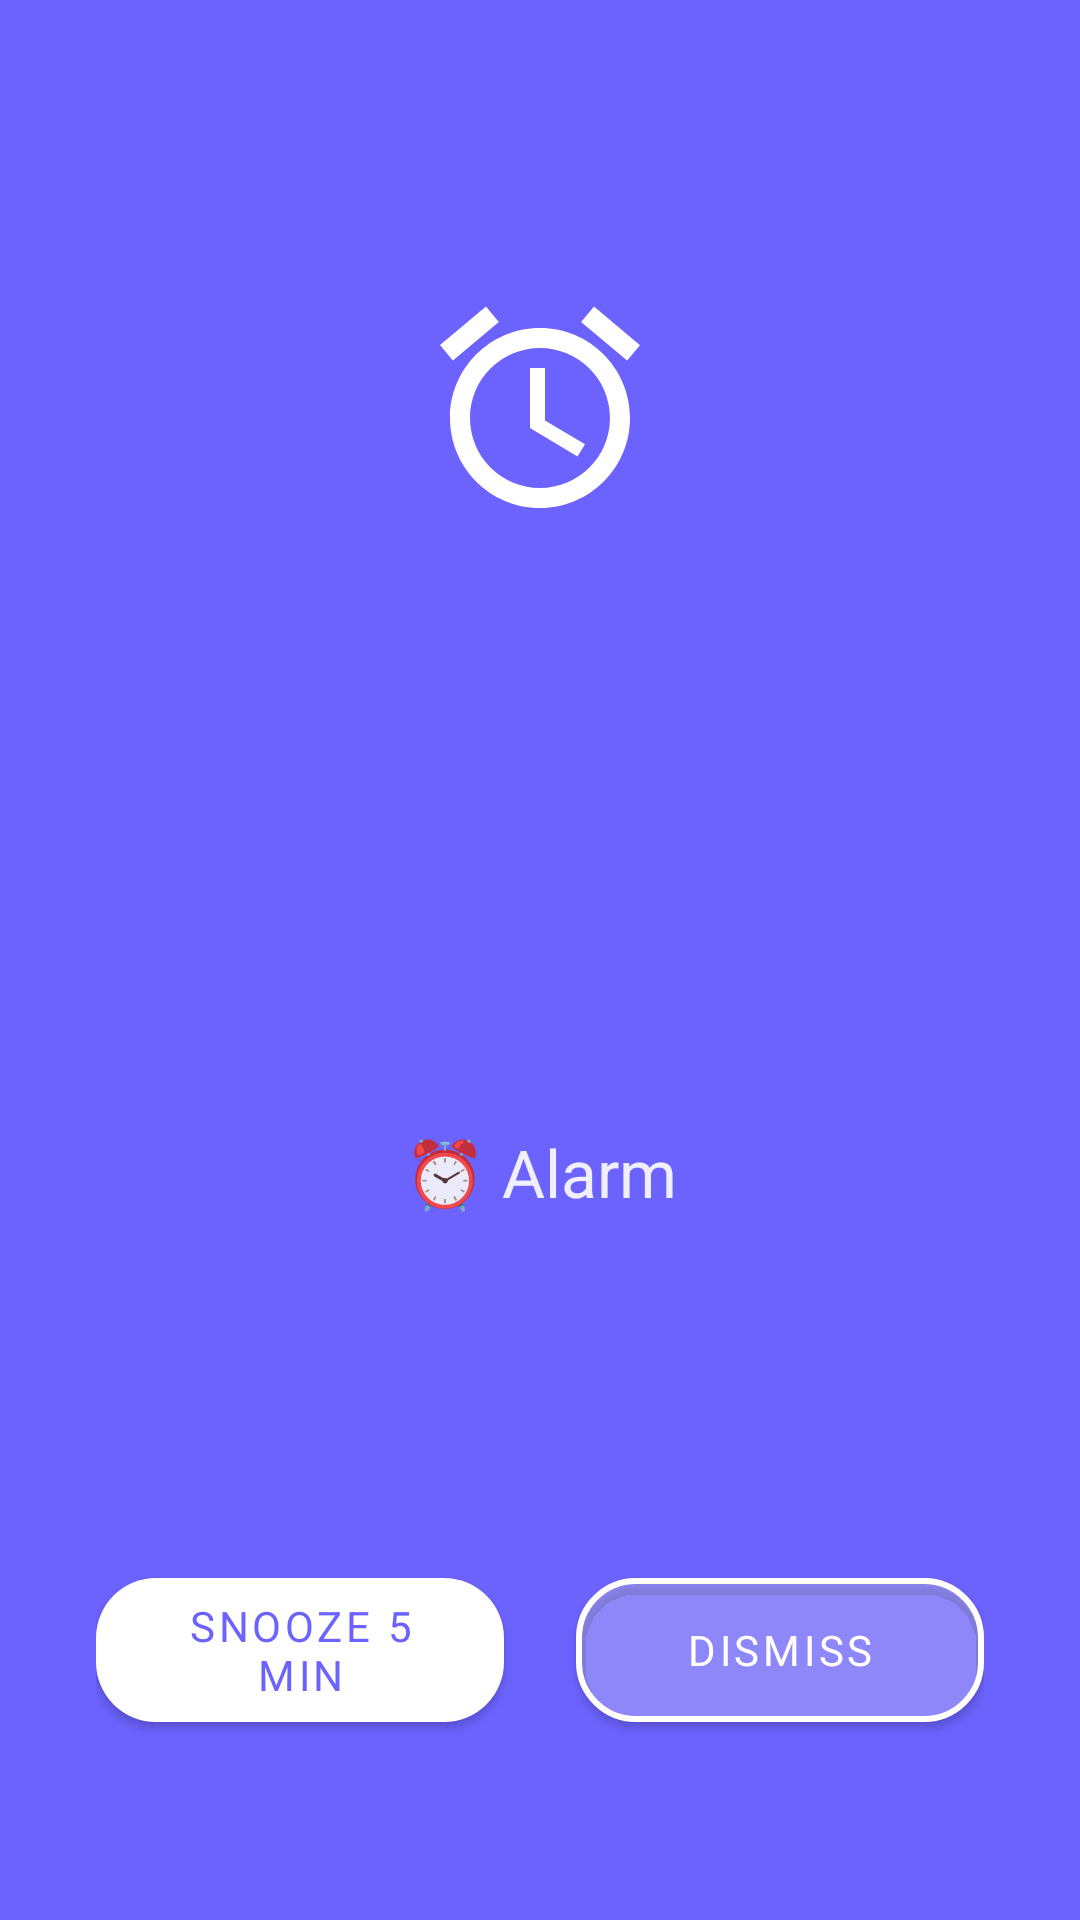

Icons on this 1080*1920 Android screen, each with the point to tap as (x,y):
alarm: (540,407)
